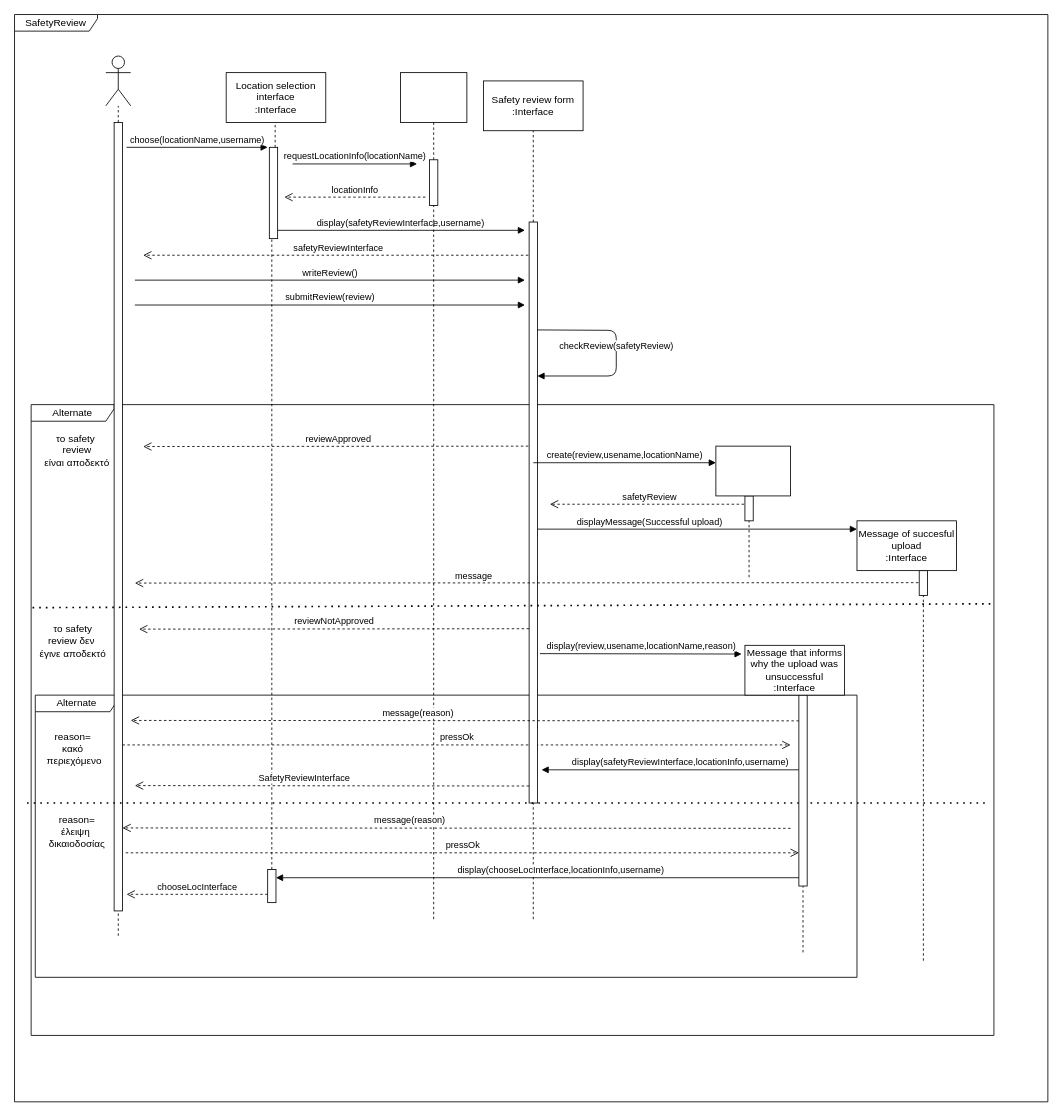
Some shapes in this 1062 by 1116 pixel diagram are drawn without their labels. Each missing label, with the centre of its shape:
"Location" belongs at point (433, 97).
"Safety review" belongs at point (753, 470).
"User" belongs at point (118, 80).
